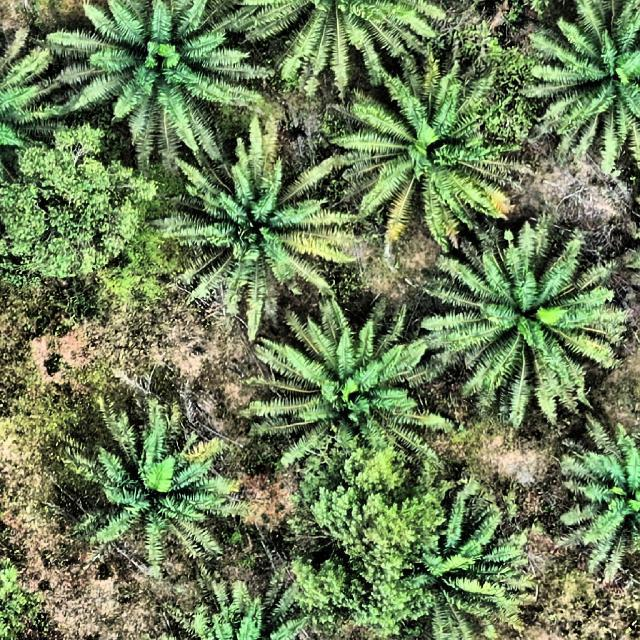Kelapa_Sawit: (444, 250, 618, 397), (76, 6, 255, 146), (186, 153, 336, 303), (356, 84, 509, 230), (275, 326, 423, 466), (86, 414, 230, 553), (388, 500, 530, 631), (241, 3, 442, 91), (531, 1, 640, 162), (567, 428, 640, 567), (3, 27, 50, 190), (200, 583, 292, 640)
